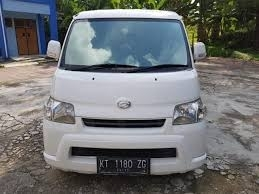plate: (97, 156, 151, 175)
